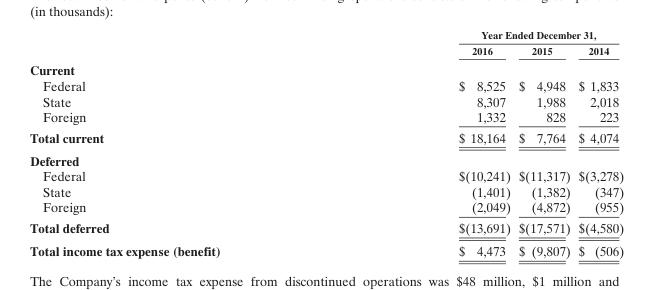table: (29, 28, 623, 258)
table column: (29, 28, 338, 258), (338, 28, 513, 258), (513, 28, 573, 258), (573, 28, 623, 258)
table column header: (29, 28, 623, 59)
table projected row header: (29, 148, 623, 167), (29, 59, 623, 77)
table row: (29, 126, 623, 148), (29, 217, 623, 239), (29, 148, 623, 167), (29, 239, 623, 258), (29, 59, 623, 77), (29, 108, 623, 126), (29, 199, 623, 217), (29, 42, 623, 59), (29, 77, 623, 93), (29, 167, 623, 183), (29, 183, 623, 199), (29, 93, 623, 108), (29, 28, 623, 42)
table spanning cell: (338, 28, 623, 42)
